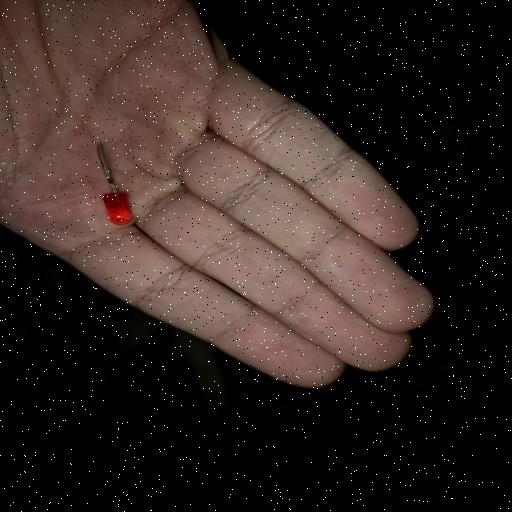led-diode: (97, 143, 132, 225)
